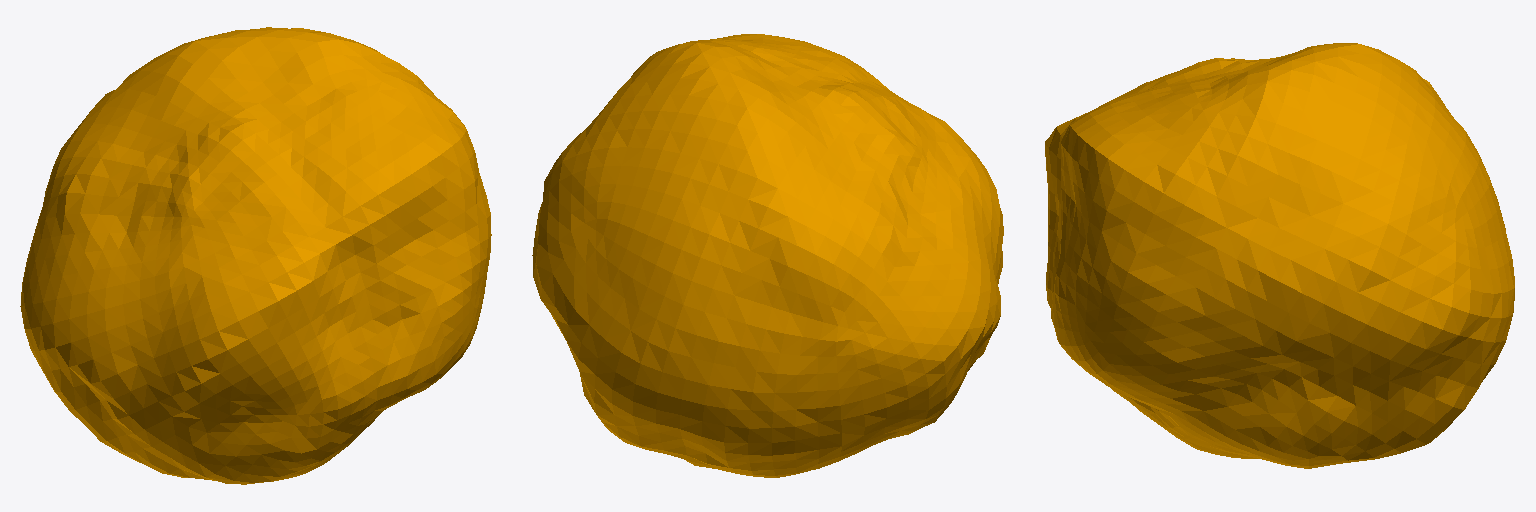
The robot description file, URDF, robot "rock":
<?xml version="1.0" ?>
<robot name="rock">
  <link name="rock">
    <inertial>
      <mass value="0.25"/>
      <origin rpy="0 0 0" xyz="0 0 0"/>
      <inertia ixx="0.00025" ixy="0" ixz="0" iyy="0.00025" iyz="0" izz="0.00025"/>
    </inertial>
    <collision name="rock_collision">
      <origin rpy="0 0 0" xyz="0 0 0"/>
      <geometry>
        <mesh filename="package://rocks/collision/42.stl" scale="1 1 1"/>
      </geometry>
    </collision>
    <visual name="rock_visual">
      <origin rpy="0 0 0" xyz="0 0 0"/>
      <geometry>
        <mesh filename="package://rocks/visual/42.dae" scale="1 1 1"/>
      </geometry>
    </visual>
  </link>
</robot>

--- Render facts (derived) ---
Views: 3 orthographic renders of the robot side by side, from view 1: azimuth 30°, elevation 25°; view 2: azimuth 150°, elevation 25°; view 3: azimuth 270°, elevation 25°.
Model rock with 1 links and 0 joints (none), rooted at rock, posed every joint at zero.
Visible links, largest first — view 1: rock; view 2: rock; view 3: rock.
Boxes of the visible links, left/top/right/bottom form: rock: left=20, top=27, right=491, bottom=484; rock: left=532, top=34, right=1003, bottom=477; rock: left=1045, top=43, right=1514, bottom=468.
Size in the robot's own frame: 0.0709 by 0.0687 by 0.0662 metres.
1 mesh visuals loaded from 1 distinct referenced files (1 Collada DAE).